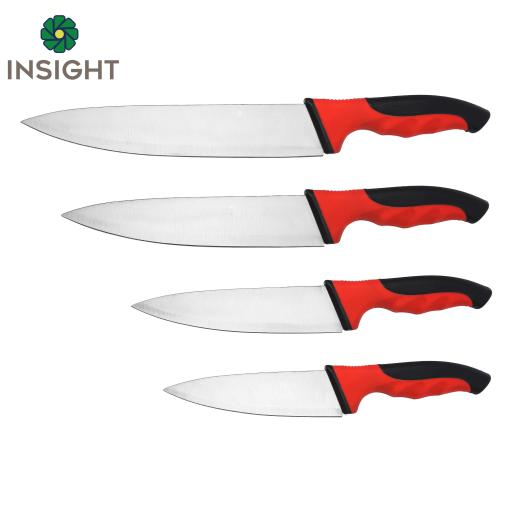knife: (18, 91, 487, 172)
